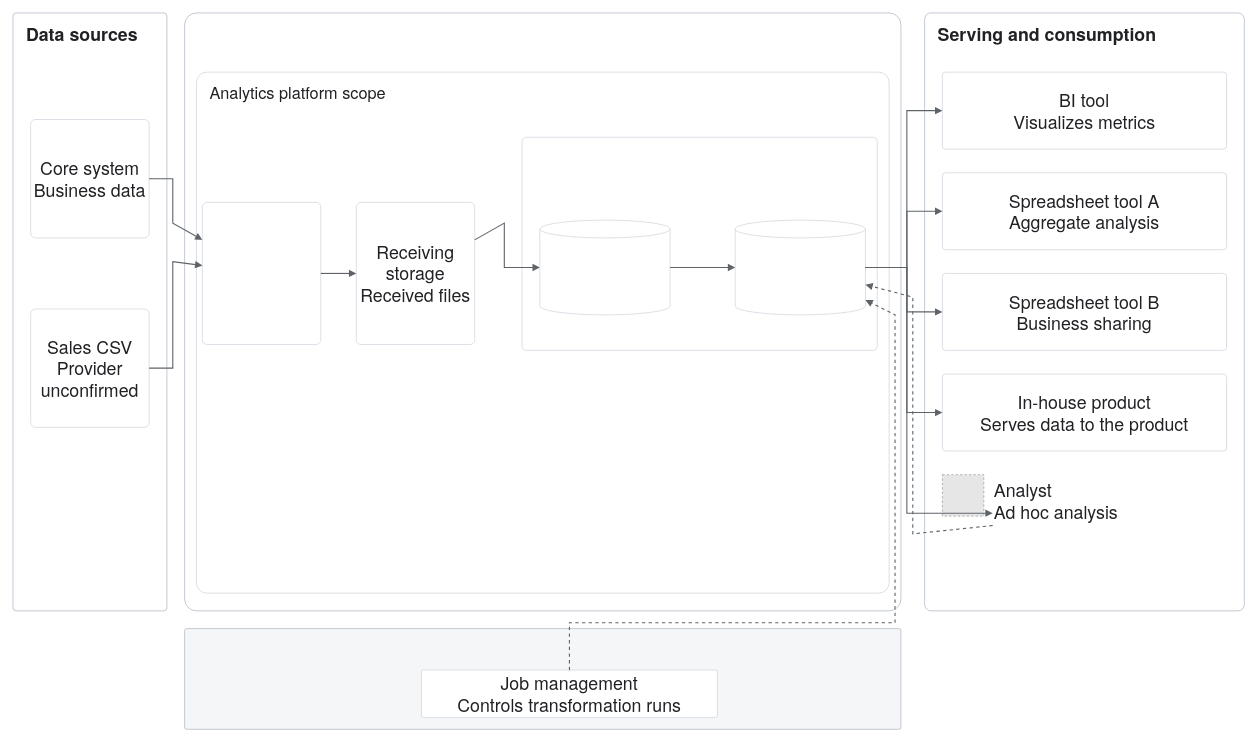
The diagram is 1257 pixels wide and 742 high, and some of its shapes have lost their labels. Grey dashed boxes stand in for pictures. The box of each missing label's shape, as (x1, y1, x2, y2) in pixels:
Analytics data store: (521, 137, 877, 350)
Cross-cutting / Orchestration: (184, 628, 901, 729)
Data platform: (184, 12, 901, 611)
Data transfer Data transfer: (202, 202, 321, 344)
Mart Business metrics: (734, 219, 865, 315)
Raw Received data: (539, 219, 670, 315)
